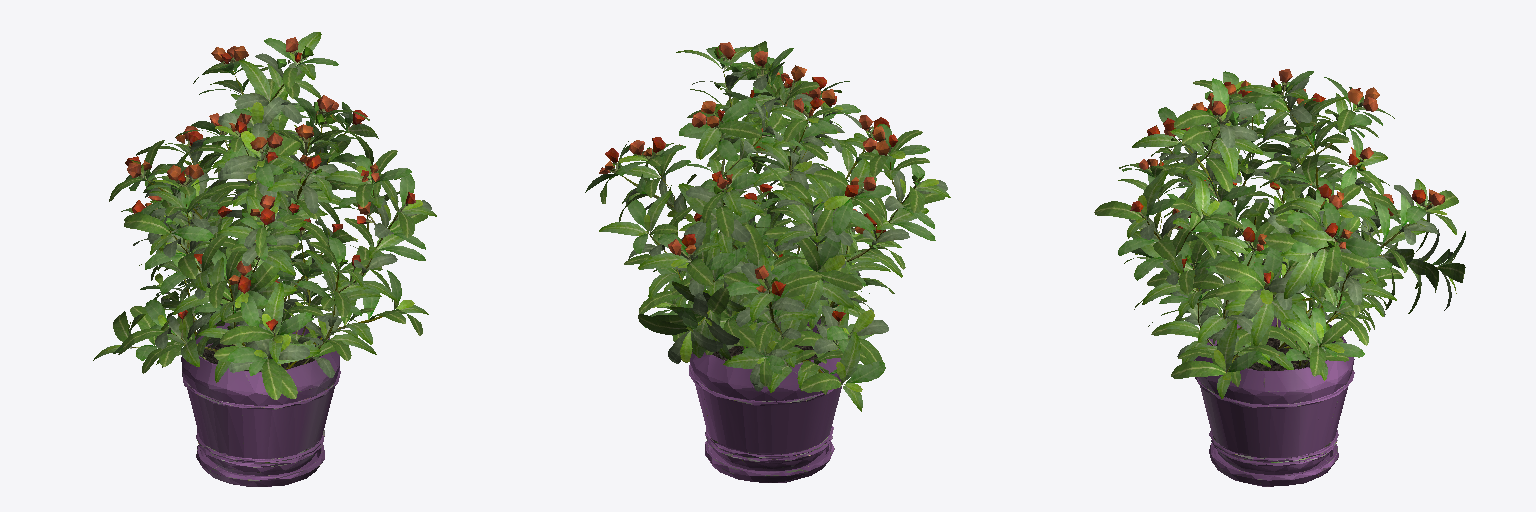
The picture shows the model from 3 angles: view 1: azimuth 30°, elevation 25°; view 2: azimuth 150°, elevation 25°; view 3: azimuth 270°, elevation 25°; orthographic projection.
Parts seen in each view (by area): view 1: solid_005, solid_006, solid_001, solid_004, solid_008, solid_007, solid_009, solid_011, solid_013, solid_014, solid_003; view 2: solid_005, solid_006, solid_001, solid_004, solid_008, solid_007, solid_011, solid_009, solid_013, solid_014, solid_003; view 3: solid_005, solid_006, solid_001, solid_004, solid_008, solid_007, solid_009, solid_011, solid_014, solid_013, solid_002.
Boxes of the visible parts, box(x1,y1,x2,y2) form: solid_005: box(109, 63, 427, 399); solid_006: box(93, 32, 436, 382); solid_001: box(181, 317, 340, 486); solid_004: box(113, 38, 425, 375); solid_008: box(133, 53, 431, 377); solid_007: box(106, 52, 422, 365); solid_009: box(125, 52, 415, 330); solid_011: box(127, 37, 379, 275); solid_013: box(143, 46, 378, 284); solid_014: box(132, 64, 397, 368); solid_003: box(137, 51, 407, 337); solid_005: box(600, 41, 944, 394); solid_006: box(599, 46, 950, 411); solid_001: box(689, 319, 841, 482); solid_004: box(585, 47, 935, 383); solid_008: box(626, 69, 947, 391); solid_007: box(619, 60, 938, 391); solid_011: box(599, 42, 876, 279); solid_009: box(605, 50, 897, 321); solid_013: box(605, 65, 889, 292); solid_014: box(622, 71, 915, 372); solid_003: box(609, 54, 919, 326); solid_005: box(1094, 80, 1465, 386); solid_006: box(1118, 85, 1456, 398); solid_001: box(1194, 318, 1354, 486); solid_004: box(1118, 71, 1465, 371); solid_008: box(1129, 77, 1452, 357); solid_007: box(1135, 81, 1456, 379); solid_009: box(1130, 78, 1425, 283); solid_011: box(1139, 69, 1444, 251); solid_014: box(1145, 100, 1436, 371); solid_013: box(1147, 80, 1438, 244); solid_002: box(1216, 338, 1326, 370).
Bounding box in the file's own units: 0.3309 × 0.4498 × 0.3694.
1 materials, 1 textured.